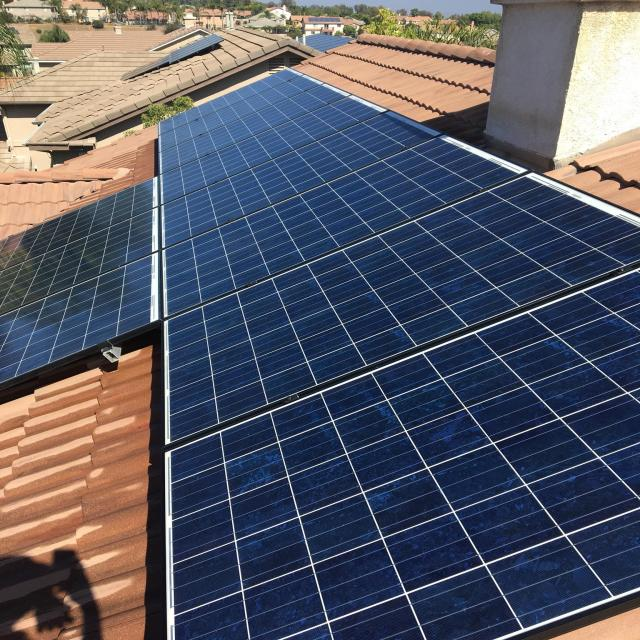clean-solar-panel: (3, 70, 638, 640)
